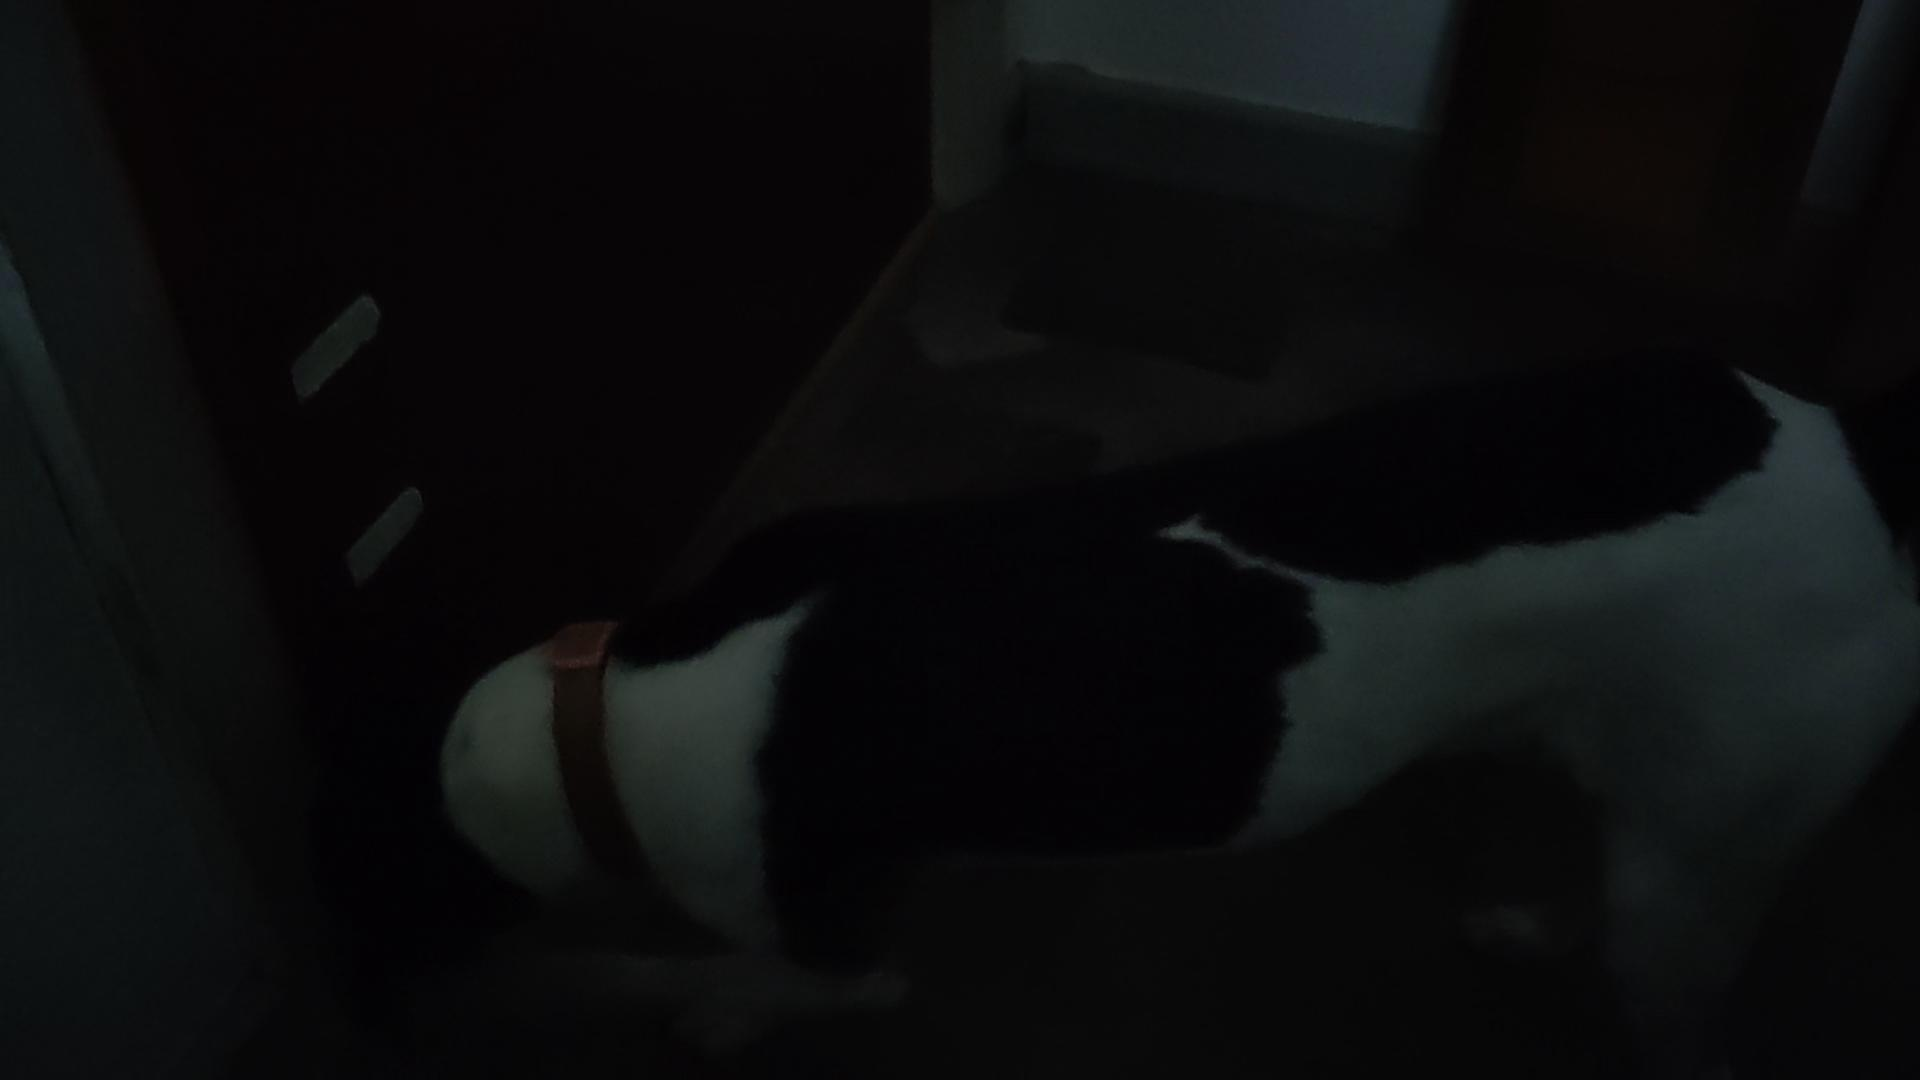Dog: (284, 336, 1919, 1079)
